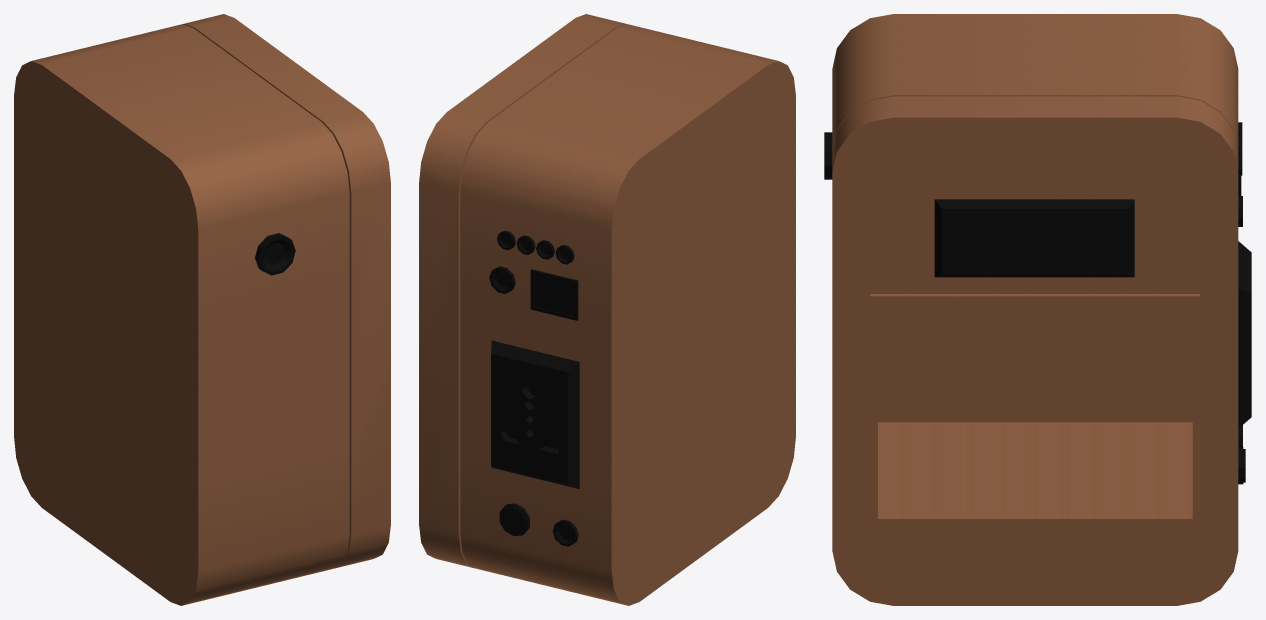
File: Generator_Body.glb
3 views of the same model, side by side, from view 1: azimuth 30°, elevation 25°; view 2: azimuth 150°, elevation 25°; view 3: azimuth 270°, elevation 25° (orthographic). The views are drawn at different scales.
Visible parts, largest first — view 1: Generator_Body; view 2: Generator_Body; view 3: Generator_Body.
Boxes of the visible parts, bbox=[...] form: Generator_Body: bbox=[14, 14, 390, 605]; Generator_Body: bbox=[419, 14, 795, 605]; Generator_Body: bbox=[824, 14, 1251, 605].
Size of the model in its own units: 1.33 by 2.82 by 2.24.
1 material, 1 textured.
